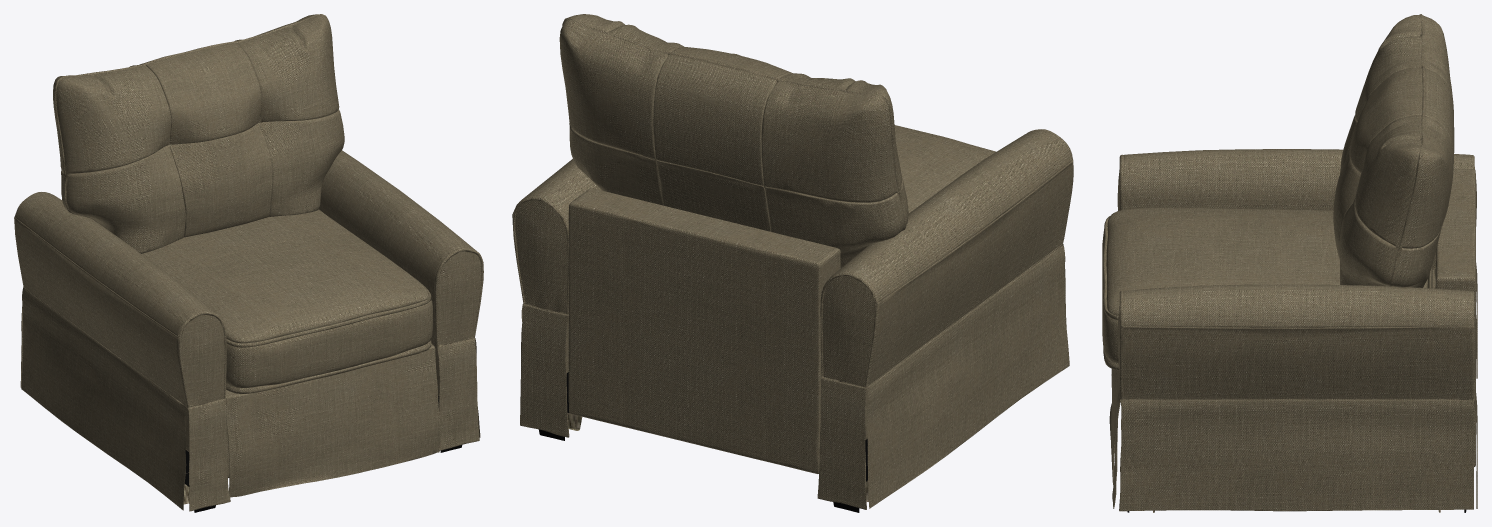
Rendered from ANDO1549_v6_LOD2.obj.
3 views of the same model, side by side, from view 1: azimuth 30°, elevation 25°; view 2: azimuth 150°, elevation 25°; view 3: azimuth 270°, elevation 25° (orthographic). The views are drawn at different scales.
Visible parts, largest first — view 1: not_clear_obj_0_v6; view 2: not_clear_obj_0_v6; view 3: not_clear_obj_0_v6.
Part boxes in pixels (bbox=[...]): not_clear_obj_0_v6: bbox=[14, 14, 483, 511]; not_clear_obj_0_v6: bbox=[512, 14, 1073, 509]; not_clear_obj_0_v6: bbox=[1102, 14, 1477, 512].
Size of the model in its own units: 86.36 by 88.9 by 83.83.
Materials: 2 (1 with a texture image).
